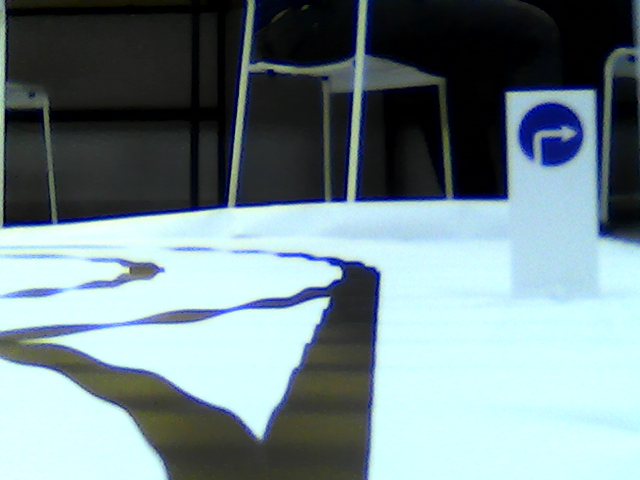Right: (516, 100, 584, 165)
